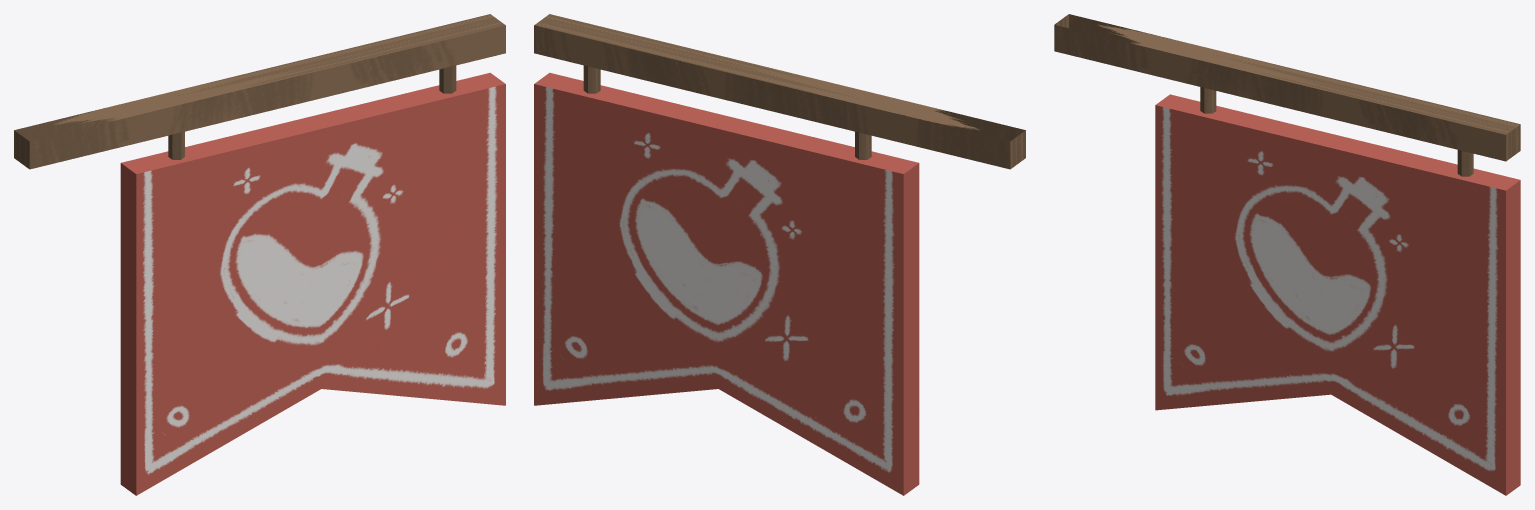
Rendered from (top) 1.fbx.
3 views of the same model, side by side, from view 1: azimuth 30°, elevation 25°; view 2: azimuth 150°, elevation 25°; view 3: azimuth 330°, elevation 25° (orthographic). The views are drawn at different scales.
Parts seen in each view (by area): view 1: Cube.001; view 2: Cube.001; view 3: Cube.001.
Boxes of the visible parts, x1=… form: Cube.001: x1=14, y1=14, x2=505, y2=495; Cube.001: x1=534, y1=14, x2=1025, y2=495; Cube.001: x1=1054, y1=14, x2=1520, y2=495.
Bounding box in the file's own units: 380 × 290 × 21.34.
1 material, 1 textured.
